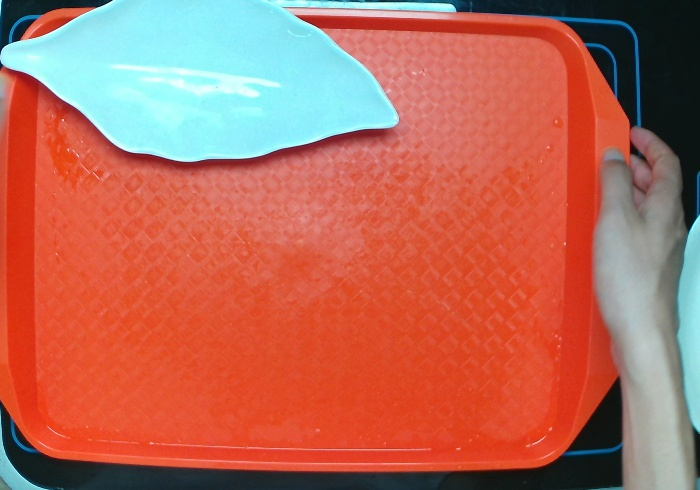RJxy-Shu_Ye_Pan: (1, 1, 401, 164)
